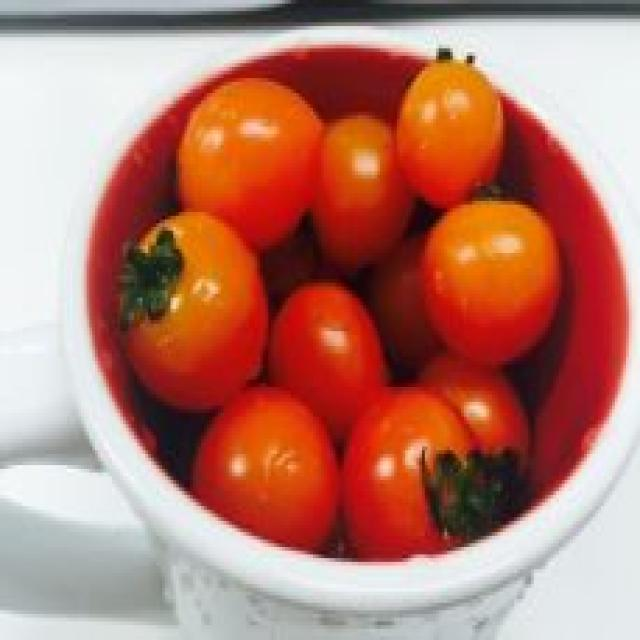level 5: (96, 208, 277, 424), (172, 66, 322, 256), (394, 199, 570, 349), (300, 101, 424, 285), (391, 48, 523, 214)
level 6: (174, 370, 340, 592), (332, 373, 485, 562), (248, 262, 404, 431), (402, 348, 550, 479), (366, 230, 470, 356)
